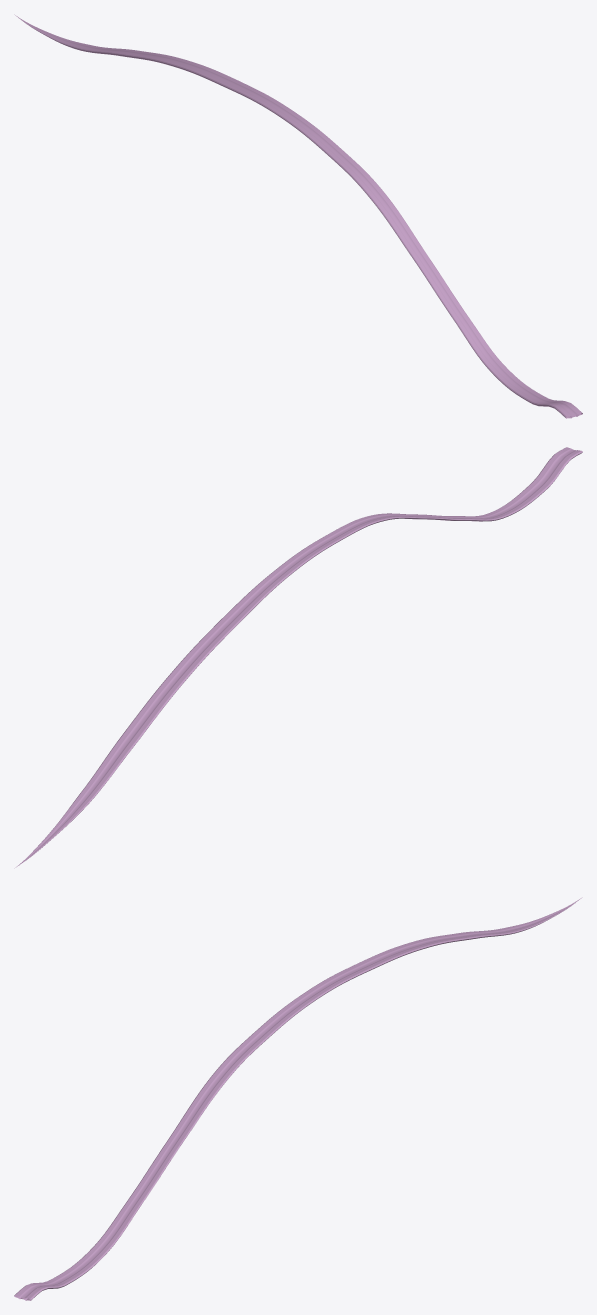
3 views of the same model, one above another, from view 1: azimuth 30°, elevation 25°; view 2: azimuth 150°, elevation 25°; view 3: azimuth 330°, elevation 25° (orthographic).
Visible parts, largest first — view 1: 外侧中间质; view 2: 外侧中间质; view 3: 外侧中间质.
Boxes of the visible parts, bbox=[...] form: 外侧中间质: bbox=[14, 14, 582, 418]; 外侧中间质: bbox=[14, 447, 582, 868]; 外侧中间质: bbox=[14, 897, 582, 1300].
Bounding box in the file's own units: 0.0129 × 0.0763 × 0.7215.
